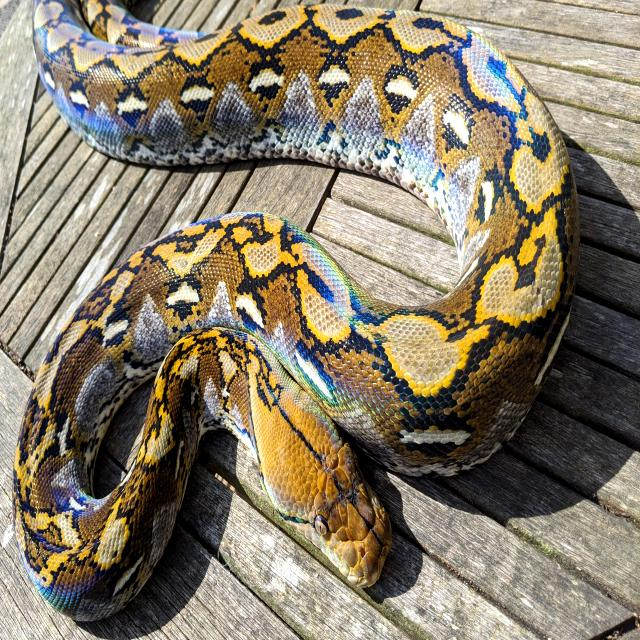Malayopython reticulatus: (14, 0, 578, 619)
snake: (14, 0, 578, 619)
